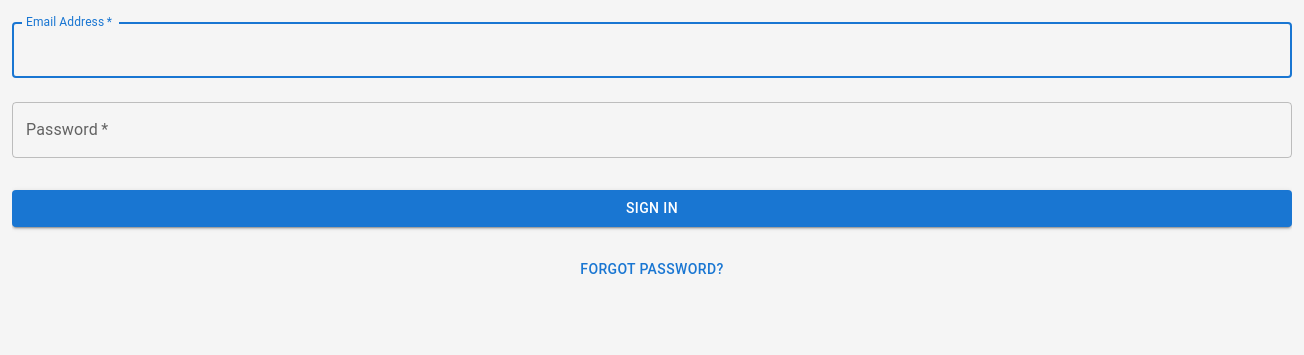
it: SignInForm › displays error message on failed sign in
Type "test@example.com" into the field labelled "Email Address *" at (652, 50), box [12,22,1292,78]
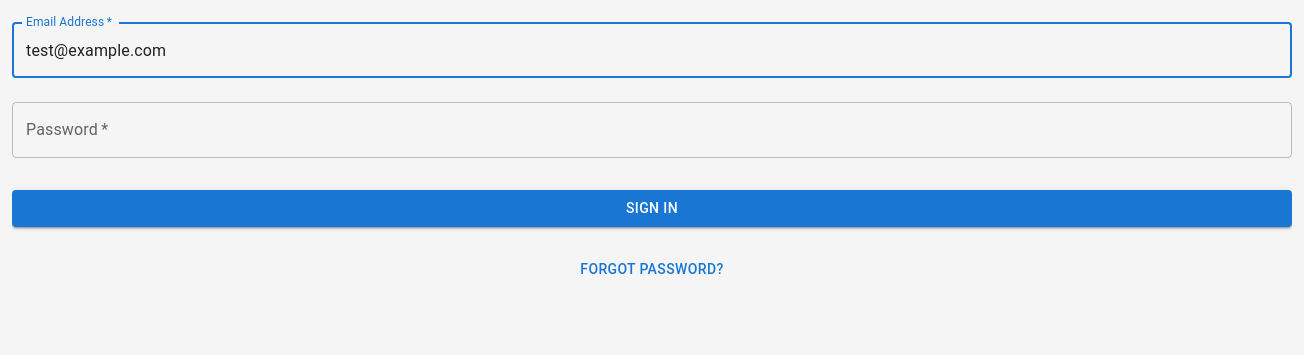
Type "wrongpassword" into the password field labelled "Password *" at (652, 130), box [12,102,1292,158]
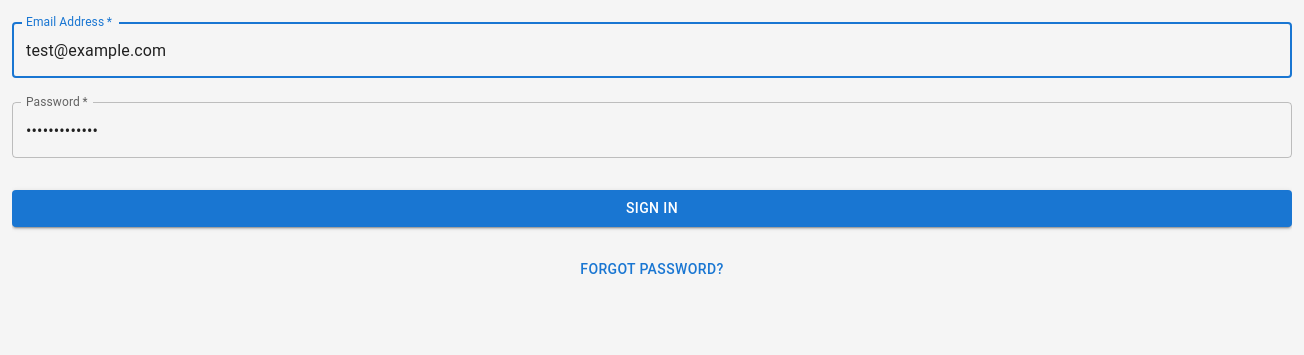
Click the button "Sign In" at (652, 208), box [12,190,1292,226]
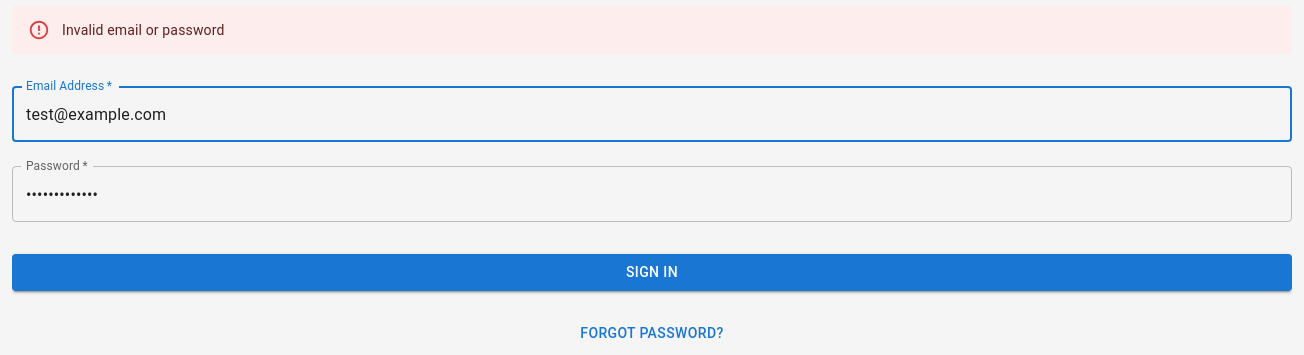
Result: the text "Invalid email or password" is shown at [62,22,224,38]
